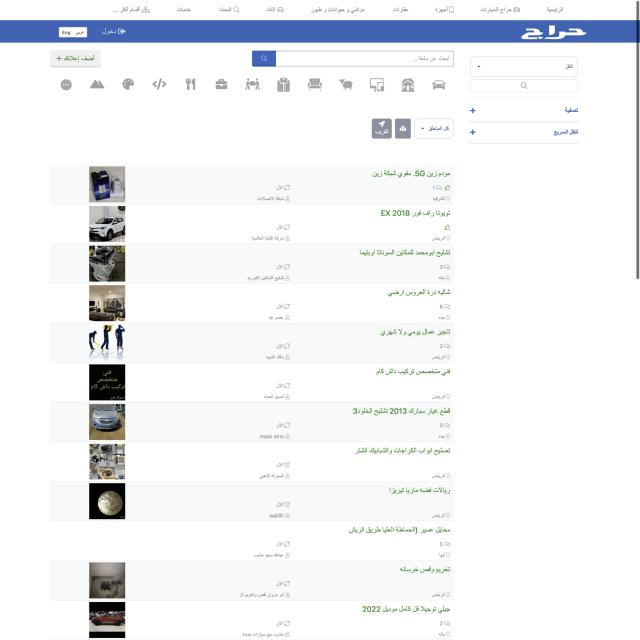CheckBox: (470, 79, 577, 92), (50, 49, 101, 68), (252, 50, 276, 67), (372, 118, 392, 138), (395, 118, 411, 139), (59, 27, 87, 37)
CheckedTextView: (251, 50, 454, 67)
QR code: (50, 165, 454, 640)
alert: (469, 97, 578, 122), (469, 122, 579, 144), (470, 56, 578, 76), (414, 117, 455, 139)
carousel: (260, 55, 267, 62), (56, 55, 62, 61)
data feed: (63, 54, 96, 62)
date picker: (521, 24, 587, 41)
decoration: (54, 77, 454, 96), (107, 3, 566, 16)
footer: (412, 54, 451, 63)
